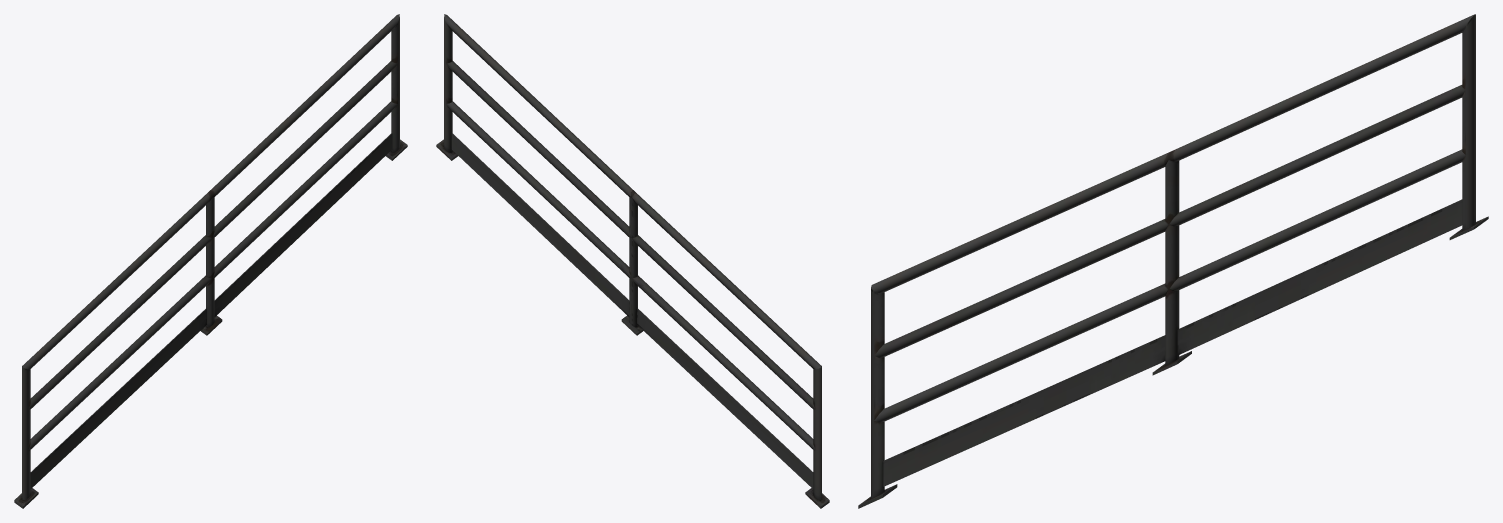
3 renders of one model, left to right at view 1: azimuth 30°, elevation 25°; view 2: azimuth 150°, elevation 25°; view 3: azimuth 330°, elevation 25°, orthographic. The views are drawn at different scales.
Visible parts, largest first — view 1: body0_model0_lod0_mesh0; view 2: body0_model0_lod0_mesh0; view 3: body0_model0_lod0_mesh0.
Part boxes in pixels (bbox=[...]): body0_model0_lod0_mesh0: bbox=[14, 14, 407, 508]; body0_model0_lod0_mesh0: bbox=[436, 14, 829, 508]; body0_model0_lod0_mesh0: bbox=[858, 14, 1488, 508].
Bounding box in the file's own units: 99.62 × 98.68 × 4.
1 material, 1 textured.
